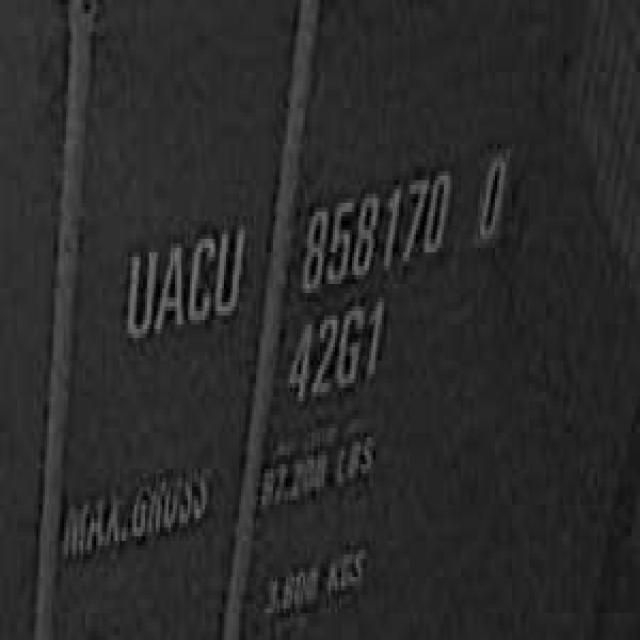dv: (471, 140, 510, 248)
owner: (120, 208, 246, 342)
serial: (299, 162, 452, 298)
size: (282, 298, 386, 410)
